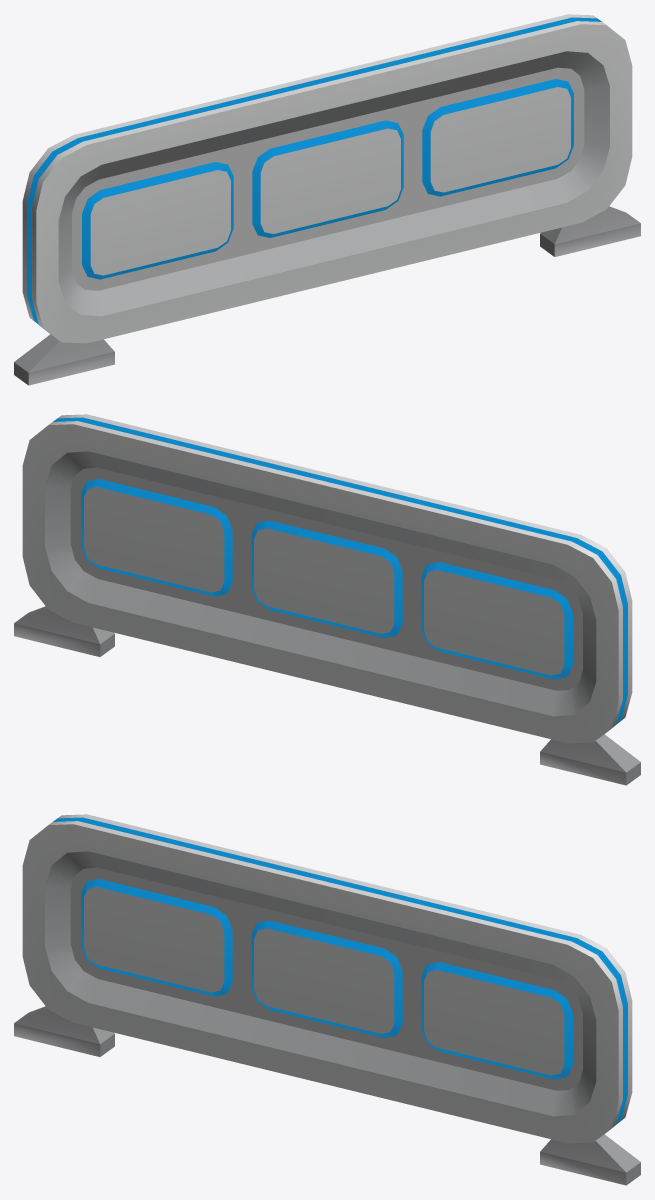
File: Fence_type_A_009.glb
3 renders of one model, top to bottom at view 1: azimuth 30°, elevation 25°; view 2: azimuth 150°, elevation 25°; view 3: azimuth 330°, elevation 25°, orthographic.
Parts seen in each view (by area): view 1: Fence_type_A_009; view 2: Fence_type_A_009; view 3: Fence_type_A_009.
Part boxes in pixels (x1,y1,x2,y2): Fence_type_A_009: (14, 14, 640, 385); Fence_type_A_009: (14, 414, 640, 785); Fence_type_A_009: (14, 814, 640, 1185).
Bounding box in the file's own units: 4.01 × 1.41 × 0.1653.
2 materials, 2 textured.
